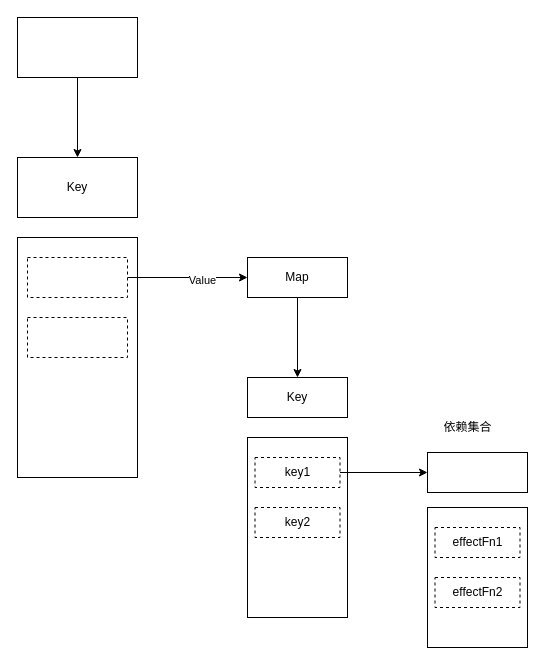
This 545x665 diagram has some shape labels left out. The shapes that lost their labels are listed below. From the top down, each one's centre as x and y in pixels, then its label:
the point at 77,47: WeakMap
the point at 77,277: target1
the point at 77,337: target2
the point at 477,472: Set
